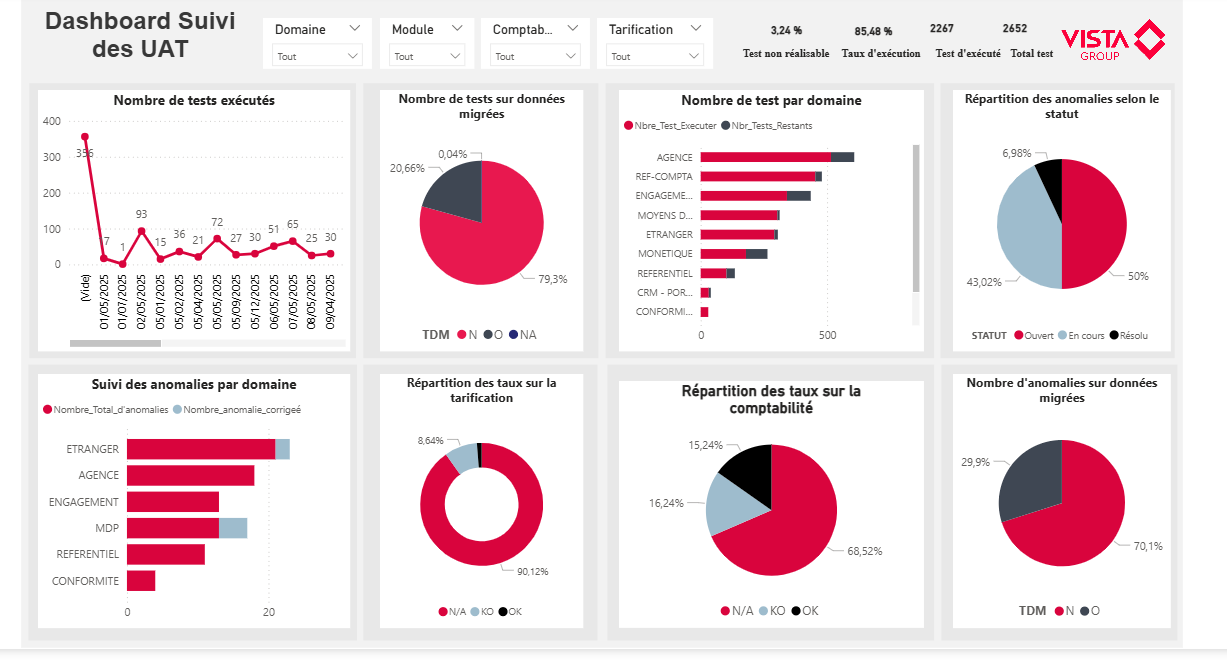

This screenshot's page, from the dashboard's own definition file:
{"tool":"powerbi","page":{"name":"Suivi des UAT","canvas":[1450,720],"ordinal":0},"visuals":[{"type":"lineChart","title":"Nombre de tests exécutés","fields":{"Y":["Plan de test.NbreTestExecuter"],"Category":["Plan de test.Date_effective_réalisation"]},"box":[104,104,344,288],"z":0},{"type":"barChart","title":"Suivi des anomalies par domaine","fields":{"Y":["Anomalies.Nombred'anomalies_Vf","Anomalies.Nombre_anomalie_résolu_Vf"],"Category":["Anomalies.DOMAINE"]},"box":[104,416,344,280],"z":1000},{"type":"pieChart","title":"Nombre de tests sur données migrées","fields":{"Category":["Plan de test.TDM"],"Y":["CountNonNull(Plan de test.Ref.)"]},"box":[480,104,224,288],"z":2000},{"type":"donutChart","title":"Répartition des taux sur la tarification","fields":{"Y":["Irritants.NbreAnomalie"],"Category":["Plan de test.Tarification"]},"box":[480,416,224,280],"z":3000},{"type":"barChart","title":"Nombre de test par domaine","fields":{"Y":["Plan de test.NbreTestExecuter","Plan de test.Tests_Restants"],"Category":["Plan de test.Domaine"]},"box":[744,104,336,288],"z":4000},{"type":"pieChart","title":"Répartition des anomalies selon le statut","fields":{"Category":["Anomalies.STATUT"],"Y":["Count(Anomalies.N°)"]},"box":[1112,104,240,288],"z":5000},{"type":"pieChart","title":"Nombre d''anomalies sur données migrées","fields":{"Category":["Plan de test.TDM"],"Y":["CountNonNull(Irritants.Ref.)"]},"box":[1112,416,240,280],"z":6000},{"type":"card","fields":{"Values":["Plan de test.Taux_Exécution"]},"box":[976,16,96,48],"z":7000},{"type":"card","fields":{"Values":["Plan de test.NbreTestExecuter"]},"box":[1056,16,88,40],"z":8000},{"type":"card","fields":{"Values":["Plan de test.NbreTest"]},"box":[1136,16,88,40],"z":9000},{"type":"slicer","fields":{"Values":["Plan de test.Domaine"]},"box":[352,24,120,56],"z":10000},{"type":"slicer","fields":{"Values":["Plan de test.Module"]},"box":[480,24,104,56],"z":11000},{"type":"textbox","box":[88,8,256,80],"z":12000},{"type":"image","box":[1216,0,144,96],"z":13000},{"type":"slicer","fields":{"Values":["Plan de test.Comptabilité"]},"box":[592,24,120,56],"z":14000},{"type":"slicer","fields":{"Values":["Plan de test.Tarification"]},"box":[720,24,128,56],"z":15000},{"type":"card","fields":{"Values":["Plan de test.Taux_test_non_réalisable"]},"box":[880,24,96,24],"z":16000},{"type":"textbox","box":[864,48,128,32],"z":17000},{"type":"textbox","box":[968,48,128,40],"z":18000},{"type":"textbox","box":[1064,48,128,40],"z":19000},{"type":"textbox","box":[1136,48,128,40],"z":20000},{"type":"pieChart","title":"Répartition des taux sur la comptabilité","fields":{"Category":["Plan de test.Comptabilité"],"Y":["CountNonNull(Plan de test.Ref.)"]},"box":[744,424,336,272],"z":21000}]}

Visuals, with their boxes on the page's 1450x720 design canvas (x1, y1, x2, y2). These are canvas units, not pixel positions in the 1227x660 screenshot, which may show the page scaled, cropped or inside an application window:
"Nombre de tests exécutés" lineChart: x1=104 y1=104 x2=448 y2=392
"Suivi des anomalies par domaine" barChart: x1=104 y1=416 x2=448 y2=696
"Nombre de tests sur données migrées" pieChart: x1=480 y1=104 x2=704 y2=392
"Répartition des taux sur la tarification" donutChart: x1=480 y1=416 x2=704 y2=696
"Nombre de test par domaine" barChart: x1=744 y1=104 x2=1080 y2=392
"Répartition des anomalies selon le statut" pieChart: x1=1112 y1=104 x2=1352 y2=392
"Nombre d''anomalies sur données migrées" pieChart: x1=1112 y1=416 x2=1352 y2=696
card - Plan de test.Taux_Exécution: x1=976 y1=16 x2=1072 y2=64
card - Plan de test.NbreTestExecuter: x1=1056 y1=16 x2=1144 y2=56
card - Plan de test.NbreTest: x1=1136 y1=16 x2=1224 y2=56
slicer - Plan de test.Domaine: x1=352 y1=24 x2=472 y2=80
slicer - Plan de test.Module: x1=480 y1=24 x2=584 y2=80
textbox: x1=88 y1=8 x2=344 y2=88
image: x1=1216 y1=0 x2=1360 y2=96
slicer - Plan de test.Comptabilité: x1=592 y1=24 x2=712 y2=80
slicer - Plan de test.Tarification: x1=720 y1=24 x2=848 y2=80
card - Plan de test.Taux_test_non_réalisable: x1=880 y1=24 x2=976 y2=48
textbox: x1=864 y1=48 x2=992 y2=80
textbox: x1=968 y1=48 x2=1096 y2=88
textbox: x1=1064 y1=48 x2=1192 y2=88
textbox: x1=1136 y1=48 x2=1264 y2=88
"Répartition des taux sur la comptabilité" pieChart: x1=744 y1=424 x2=1080 y2=696
